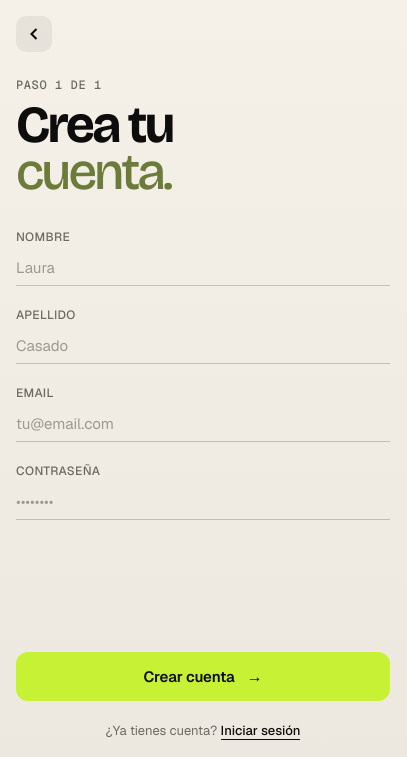
Test case: RegisterPage confirmation (7.3) › shows pending-approval and 2-day provisional access after a successful register
In the field labelled "Nombre": (203, 268) [16,250,390,286], type "Ana"
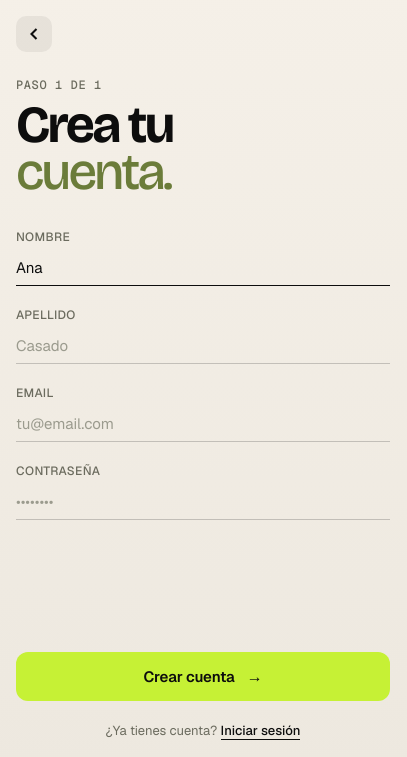
In the field labelled "Apellido": (203, 346) [16,328,390,364], type "Ruiz"
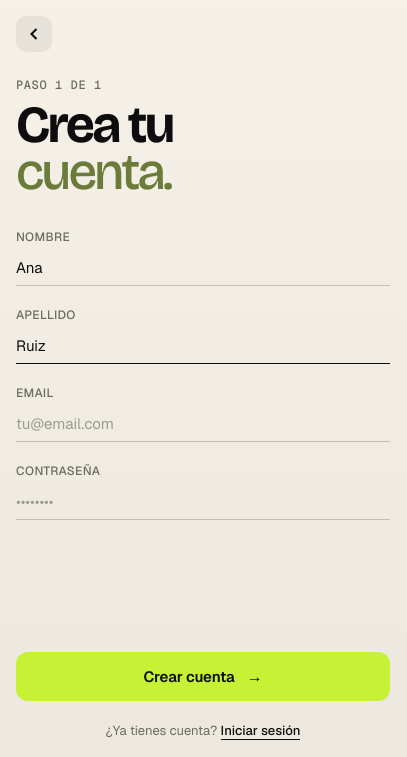
In the field labelled "Email": (203, 424) [16,406,390,442], type "new@test.com"
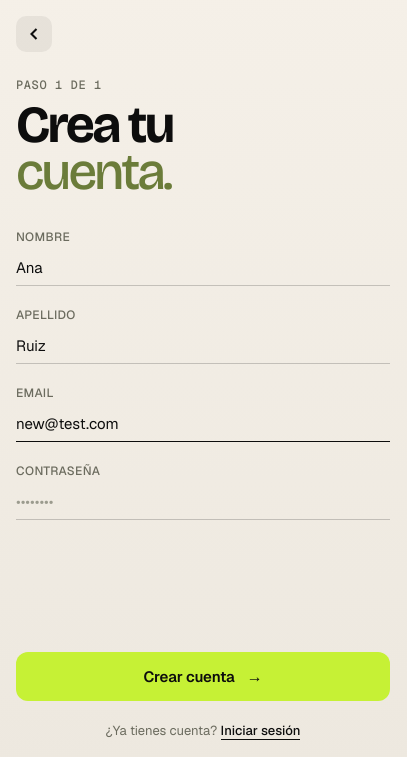
In the password field labelled "Contraseña": (203, 502) [16,484,390,520], type "Password1"
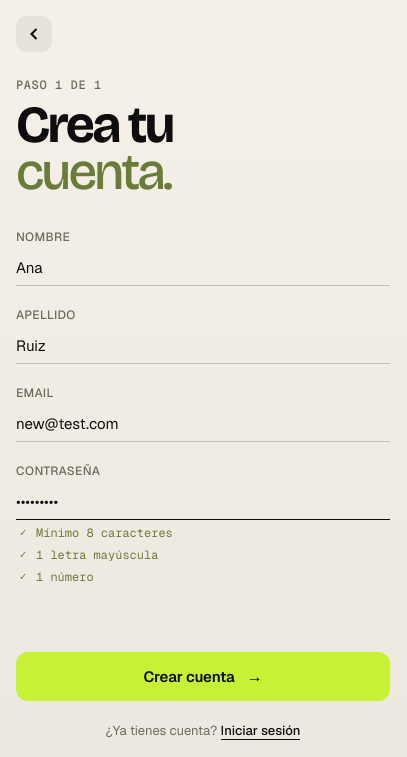
Click the button "Crear cuenta →": click(203, 676) [16,652,390,700]
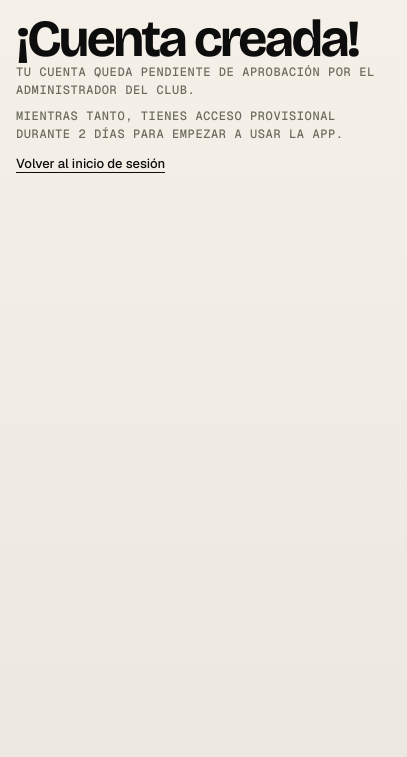
Check: the text "pendiente de aprobación" is shown, box [141,64,320,80]
Check: the text "acceso provisional durante 2 días" is shown, box [16,108,336,142]
